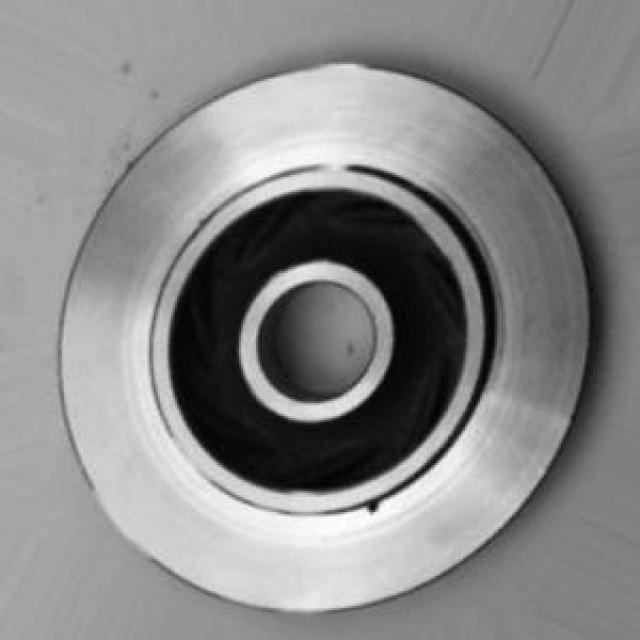Defect: (359, 492, 380, 520)
